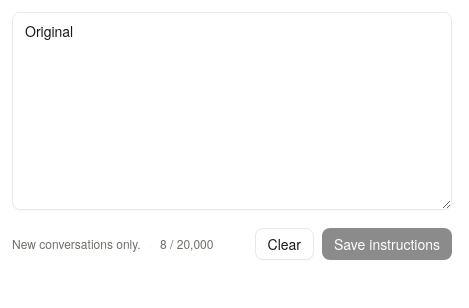
Test: AgentCustomInstructions › shows load and save errors without discarding the draft
Later steps or results of the test are not shown.
Replace the text in the text box showing "Original" with "Unsaved draft" at [232, 111], box [12,12,452,210]
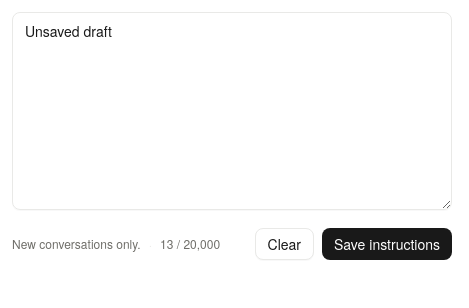
Click the button "Save instructions" at [387, 244], box [322,228,452,260]
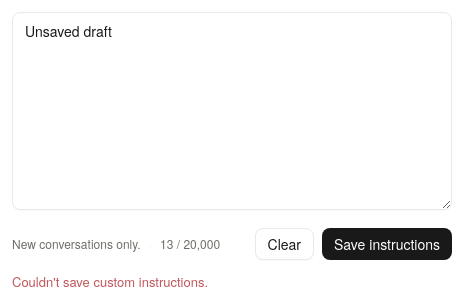
Check: the text "Couldn't save custom instructions." is shown, box [12,272,208,291]
